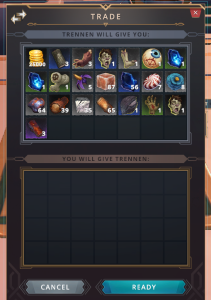ash log: (50, 47, 70, 68)
gold: (25, 48, 47, 68)
iron ore: (25, 93, 46, 115)
marble stone: (72, 95, 93, 114)
oak log: (96, 95, 116, 114)
yew log: (25, 116, 47, 139)
